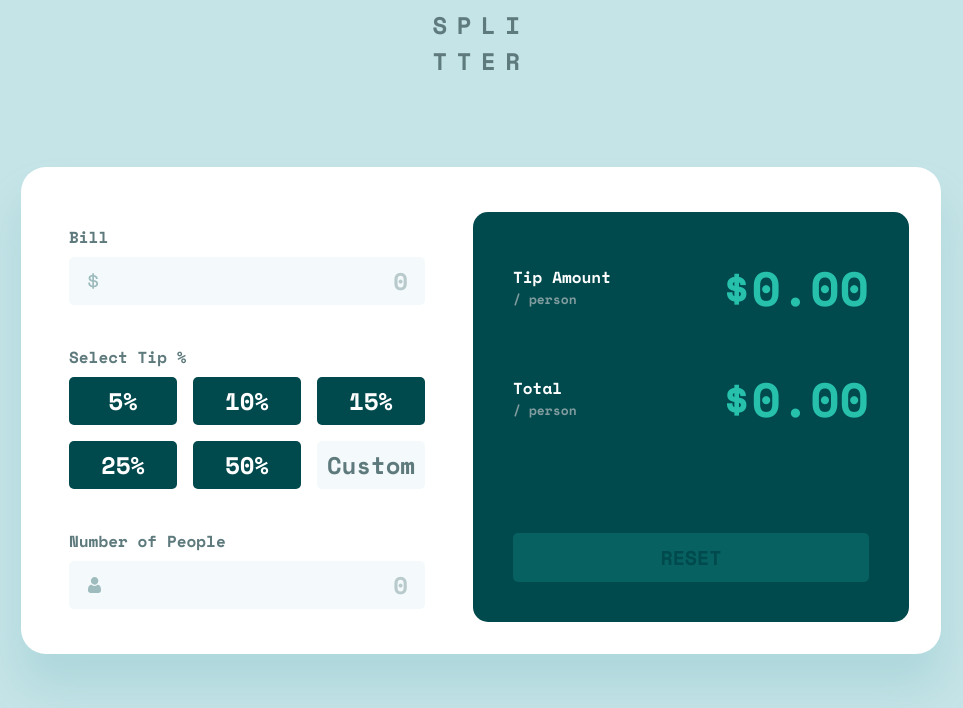
Test case: App UI Behavior › updates calculation when bill and tip changes
Type "100" into the number field labelled "Bill".
click(247, 280); type("100")  # box [69,256,425,304]
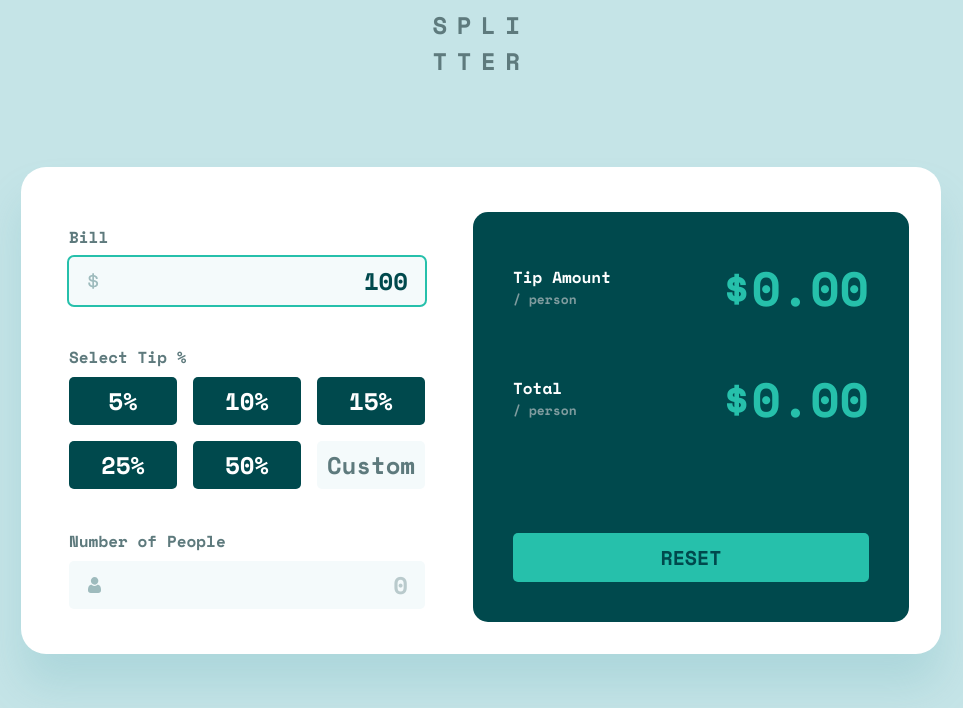
Click the button "5%".
click(123, 400)  # box [69,376,177,424]
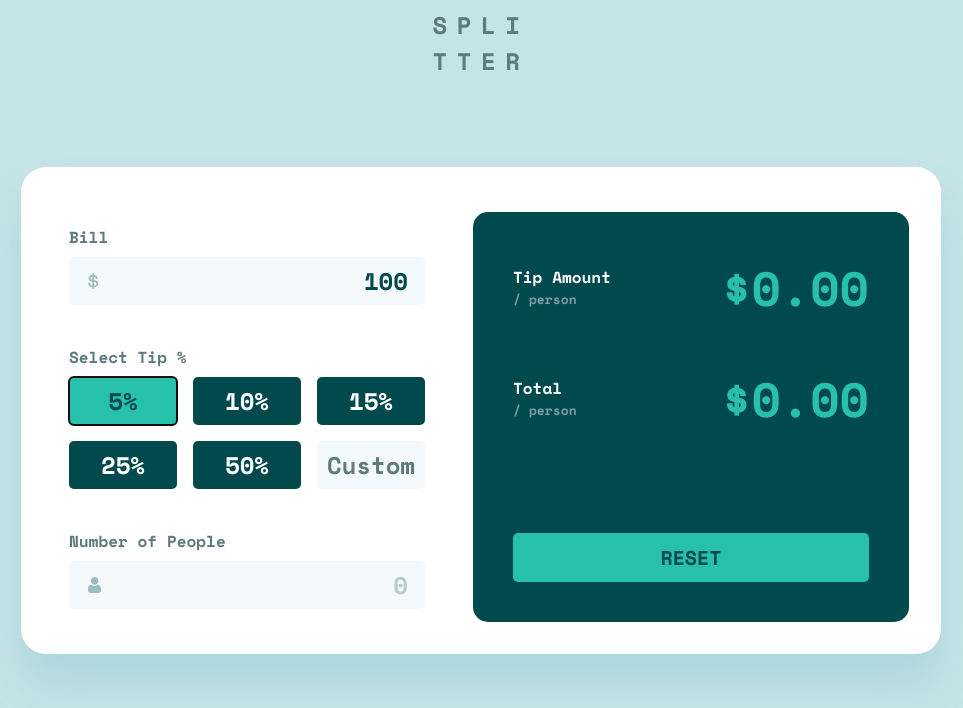
Type "2" into the number field labelled "Number of People".
click(247, 584); type("2")  # box [69,560,425,608]
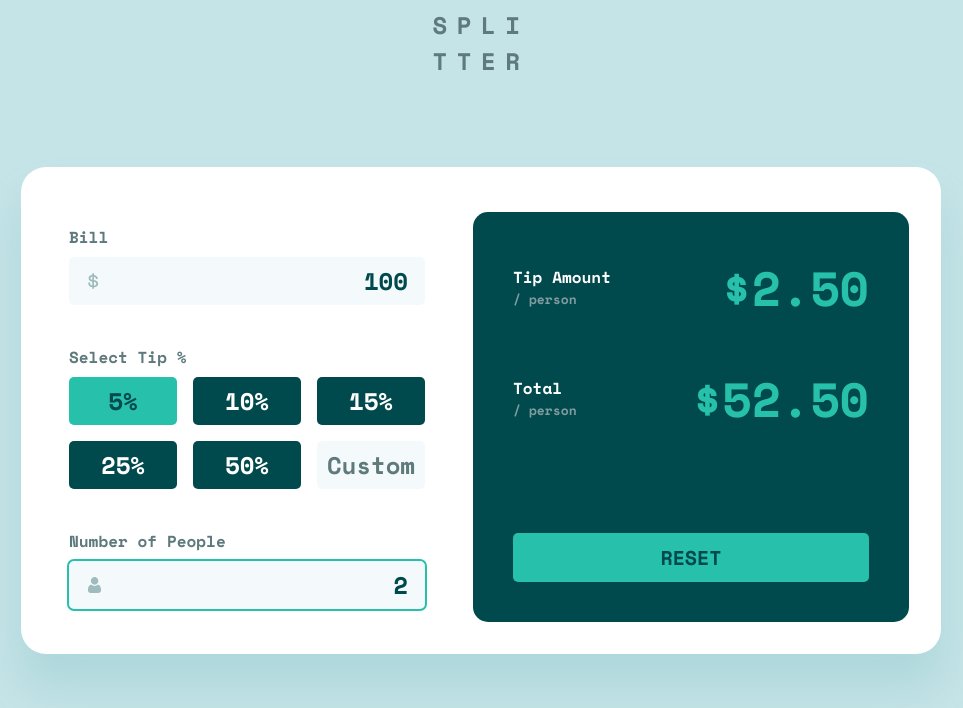
Expected: the text "$2.50" is shown, [722,252,869,322]
Expected: the text "$52.50" is shown, [693,362,869,434]
